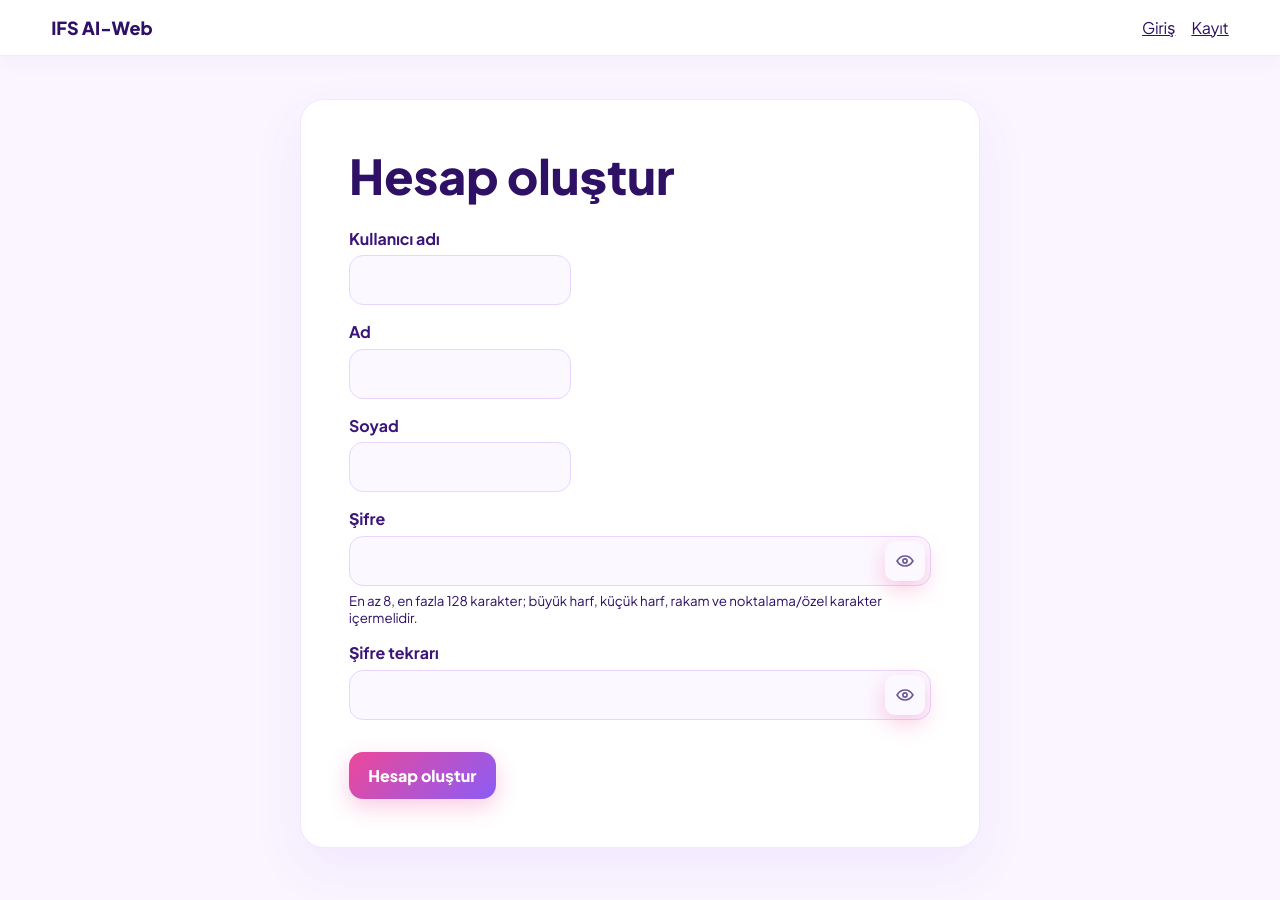
it: Phase 2 authentication UI › keeps registration free of email and role inputs and validates confirmation
In the password field labelled "Şifre": (640, 561) [349,536,931,586], type "Valid123!"
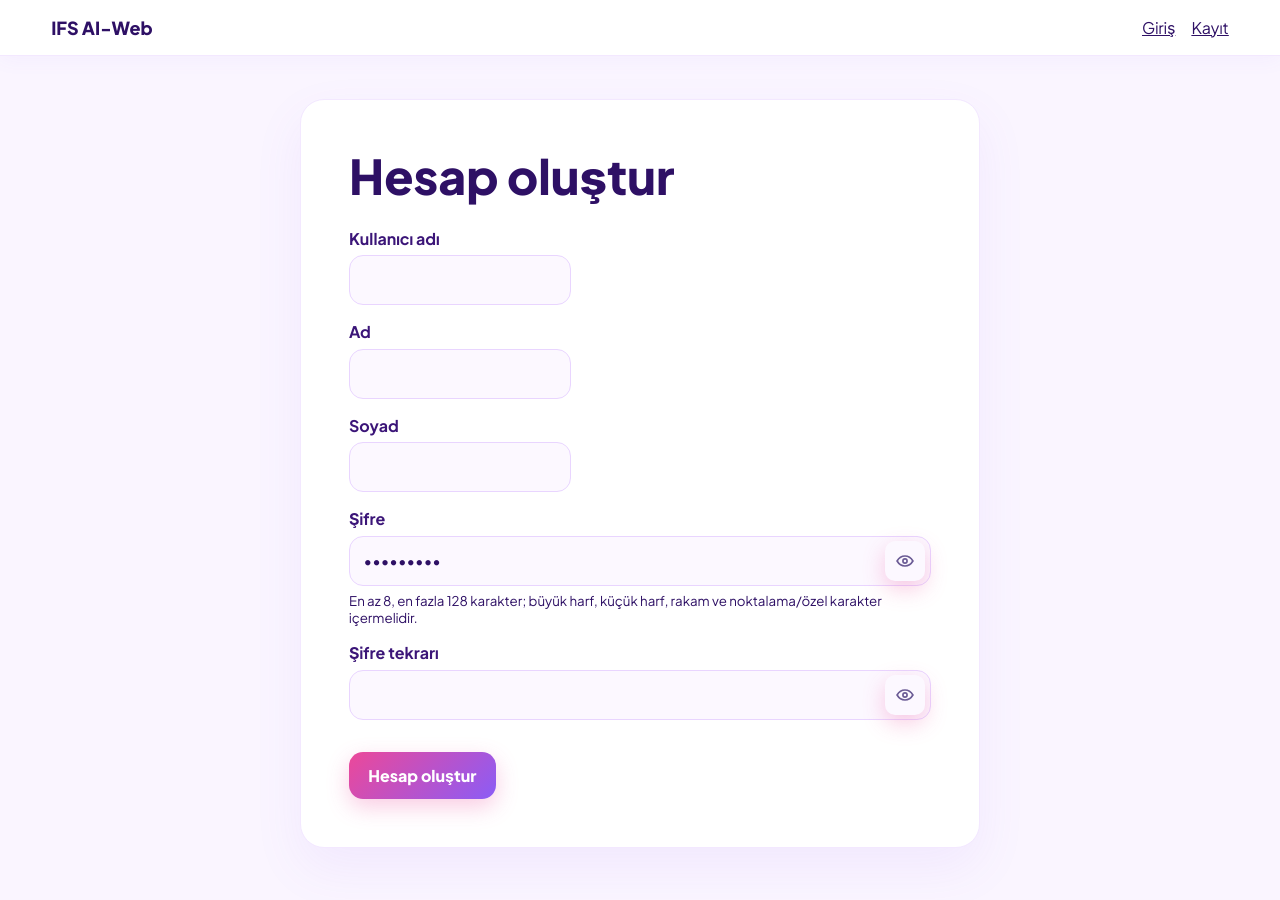
In the password field labelled "Şifre tekrarı": (640, 695) [349,670,931,720], type "Different123!"
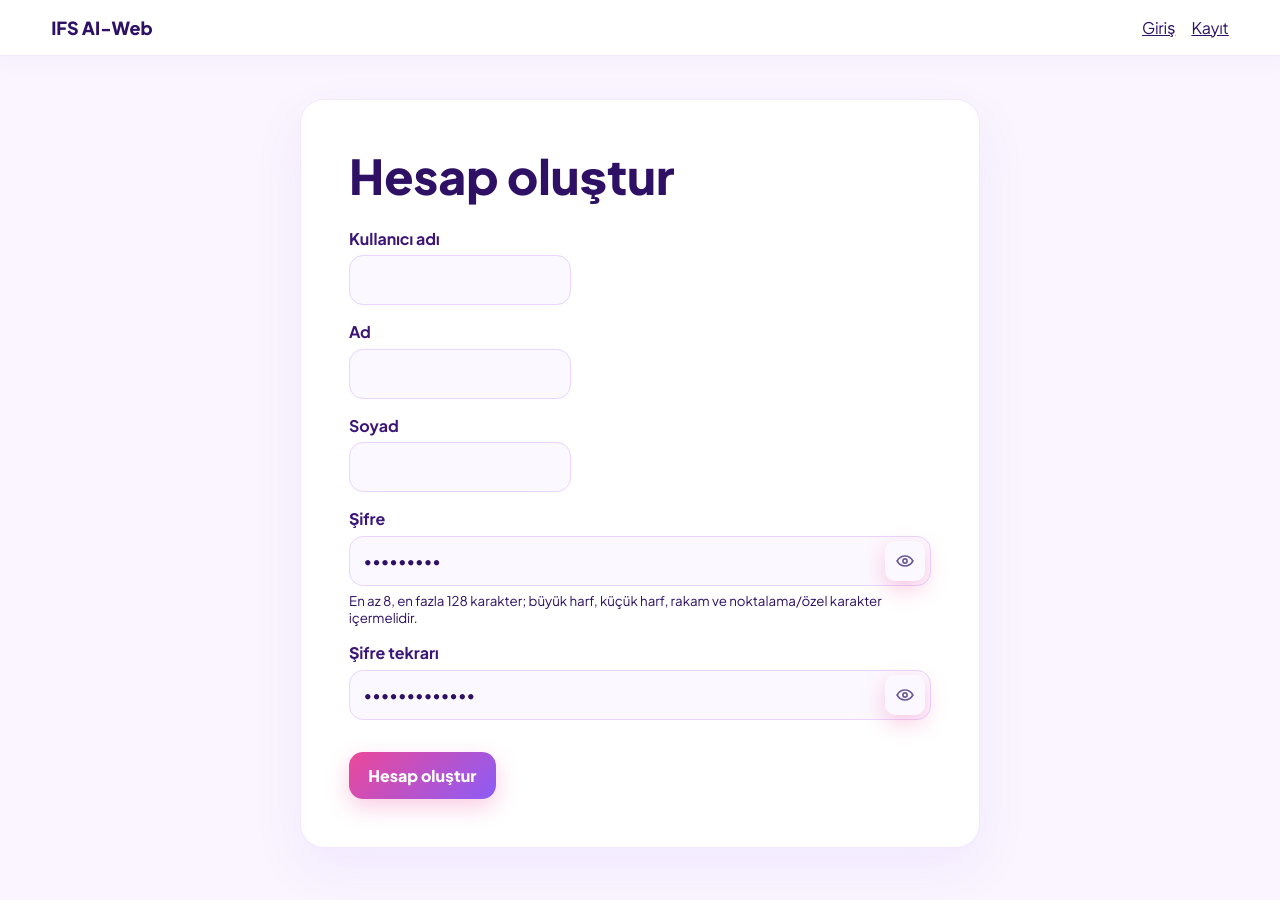
Click the button "Hesap oluştur": (422, 775) [349,752,496,798]
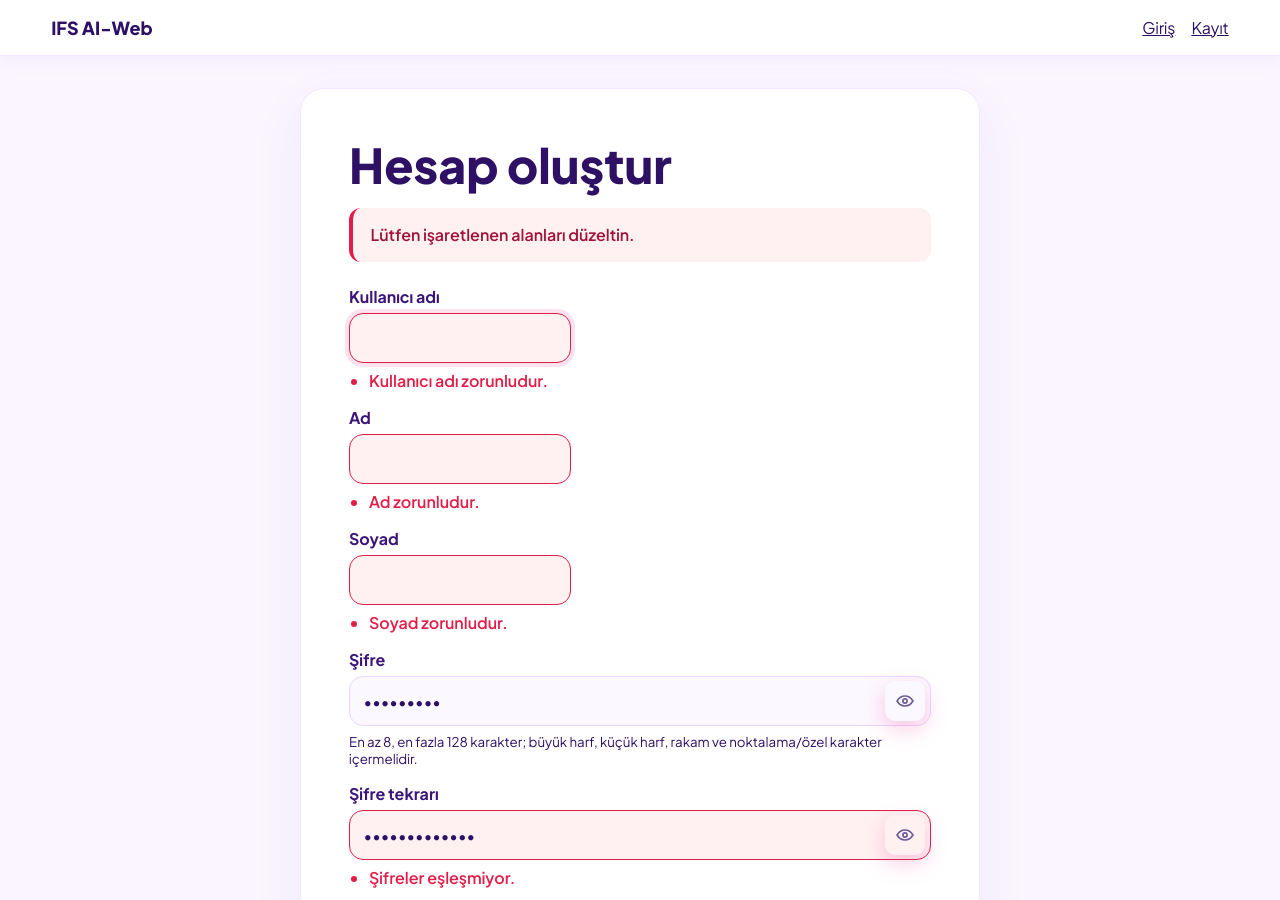
Check: the list item "Şifreler eşleşmiyor." is shown, box [369,867,515,888]
